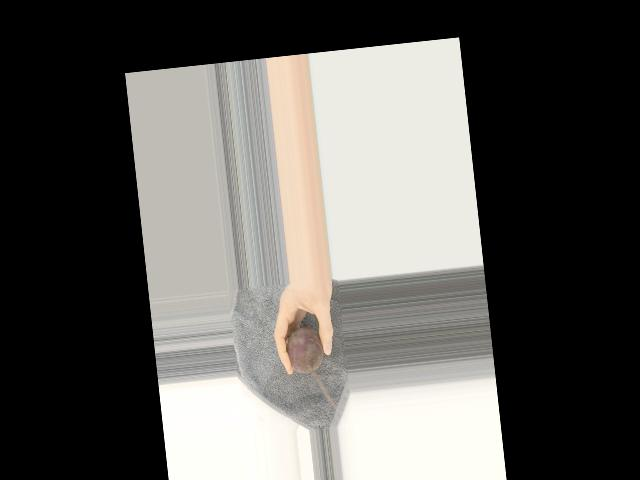beet: (285, 325, 325, 374)
